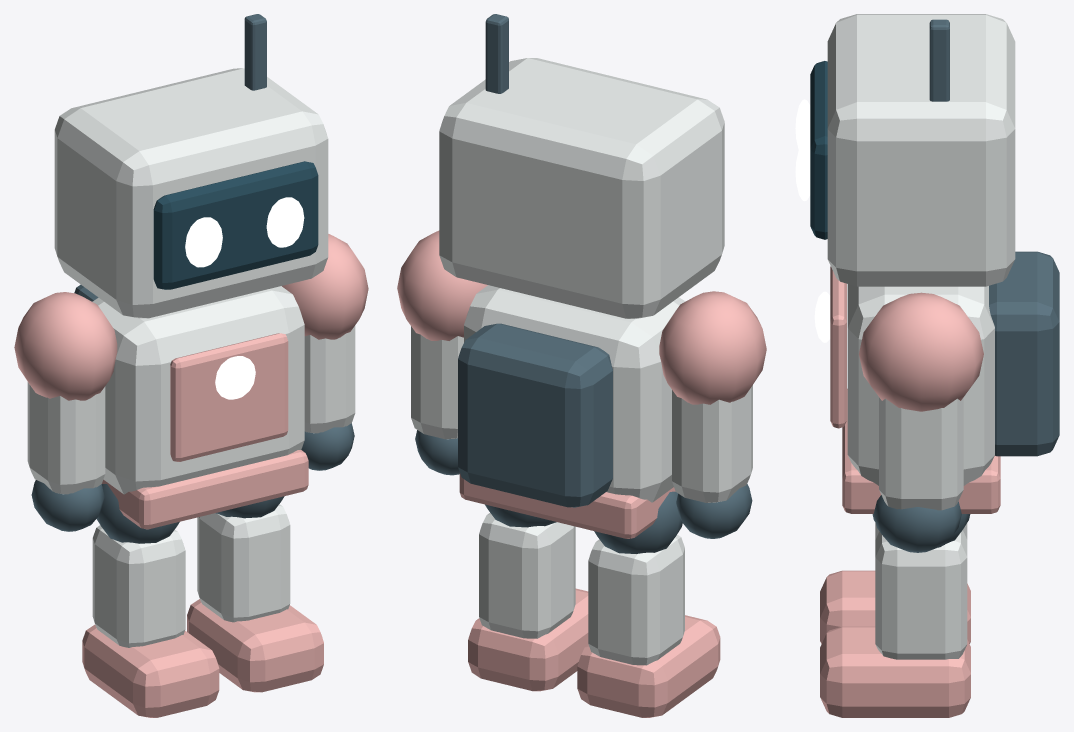
File: vex.glb
3 views of the same model, side by side, from view 1: azimuth 30°, elevation 25°; view 2: azimuth 150°, elevation 25°; view 3: azimuth 270°, elevation 25° (orthographic). The views are drawn at different scales.
Visible parts, largest first — view 1: Head, Torso, Visor, Chest plate, Leg.007, Leg, Boot.007, Shoulder.007, Boot, Belt, Arm.007, Shoulder (+9 smaller); view 2: Head, Pack, Torso, Leg.007, Leg, Shoulder.007, Boot.007, Arm.007, Boot, Shoulder, Belt, Arm (+5 smaller); view 3: Head, Pack, Shoulder, Torso, Boot, Leg, Arm, Boot.007, Belt, Hand, Visor, Chest plate (+4 smaller).
Boxes of the visible parts, x1,y1,x2,y2 form: Head: [54, 68, 328, 318]; Torso: [92, 286, 304, 494]; Visor: [153, 161, 318, 289]; Chest plate: [170, 333, 288, 461]; Leg.007: [92, 525, 185, 647]; Leg: [197, 504, 290, 622]; Boot.007: [82, 624, 219, 717]; Shoulder.007: [14, 292, 117, 400]; Boot: [187, 599, 323, 692]; Belt: [102, 450, 308, 529]; Arm.007: [27, 382, 105, 494]; Shoulder: [282, 234, 368, 339]; Head: [439, 58, 724, 318]; Pack: [458, 323, 612, 507]; Torso: [464, 285, 685, 502]; Leg.007: [588, 534, 684, 665]; Leg: [479, 513, 575, 638]; Shoulder.007: [659, 291, 766, 404]; Boot.007: [577, 615, 720, 717]; Arm.007: [672, 385, 752, 502]; Boot: [468, 588, 588, 691]; Shoulder: [397, 230, 487, 340]; Belt: [459, 473, 675, 538]; Arm: [411, 326, 463, 439]; Head: [827, 14, 1015, 286]; Pack: [989, 251, 1059, 456]; Shoulder: [859, 292, 983, 411]; Torso: [847, 284, 994, 485]; Boot: [820, 626, 970, 717]; Leg: [875, 530, 967, 659]; Arm: [879, 397, 963, 510]; Boot.007: [820, 570, 970, 643]; Belt: [842, 388, 1000, 513]; Hand: [873, 495, 961, 552]; Visor: [810, 61, 827, 239]; Chest plate: [830, 266, 846, 428].
Size of the model in its own units: 1.16 by 2.08 by 0.717.
